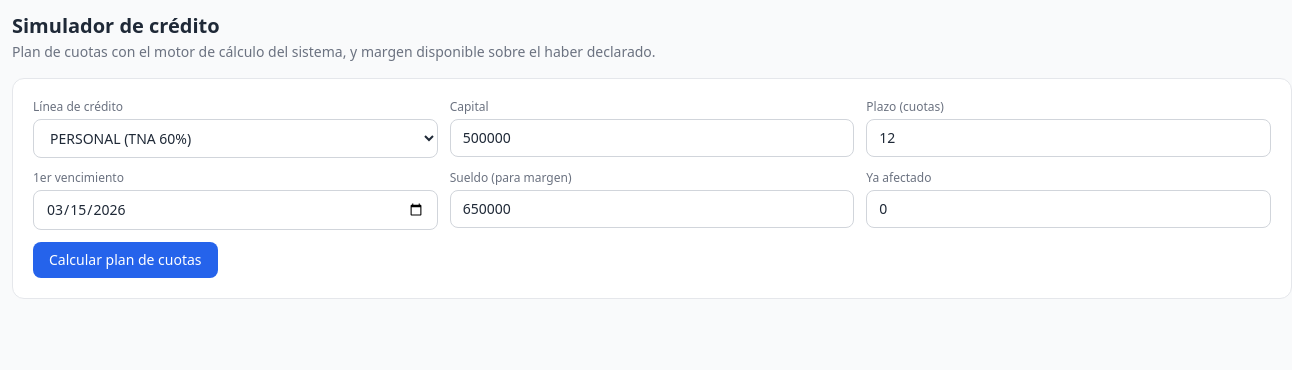
Test: Simulador de crédito › si el motor rechaza los datos lo muestra
The image size is (1292, 370).
Expected: the dropdown labelled "Línea de crédito" shows "PERSONAL (TNA 60%)", [33,119,438,158]
Click the button "Calcular plan de cuotas" at (125, 260), box [33,242,218,278]
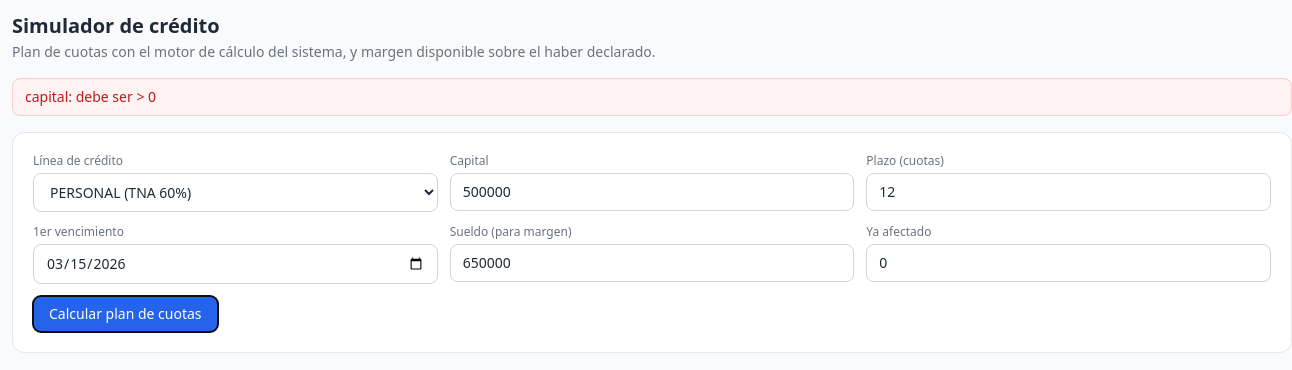
Expected: the text "capital: debe ser > 0" is shown, [12,78,1291,116]
